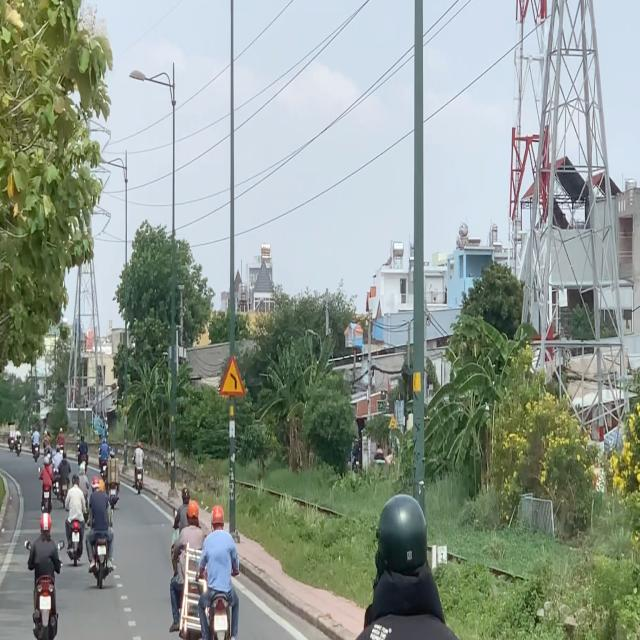Nguy hiem: (220, 355, 246, 395)
